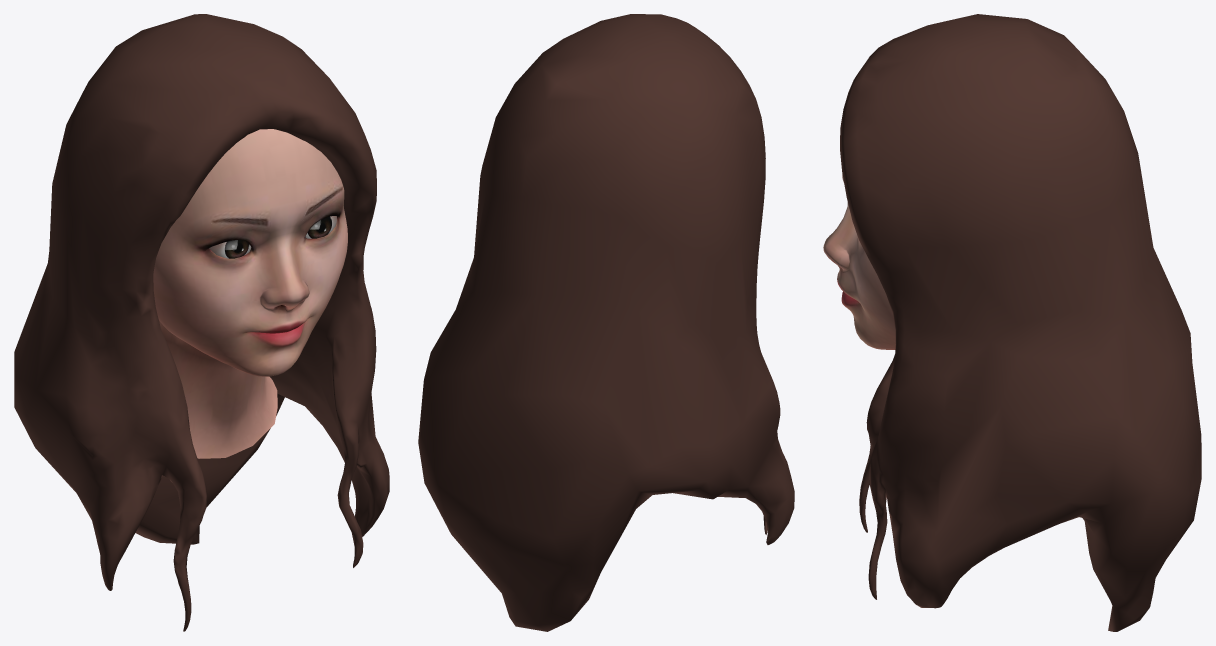
Rendered from woman-head.fbx.
3 renders of one model, left to right at view 1: azimuth 30°, elevation 25°; view 2: azimuth 150°, elevation 25°; view 3: azimuth 270°, elevation 25°, orthographic. The views are drawn at different scales.
Visible parts, largest first — view 1: Wolf3D_Hair, Wolf3D_Head, EyeRight; view 2: Wolf3D_Hair; view 3: Wolf3D_Hair, Wolf3D_Head.
Boxes of the visible parts, bbox=[...] form: Wolf3D_Hair: bbox=[14, 14, 389, 631]; Wolf3D_Head: bbox=[153, 129, 347, 458]; EyeRight: bbox=[209, 239, 251, 258]; Wolf3D_Hair: bbox=[418, 14, 794, 631]; Wolf3D_Hair: bbox=[840, 14, 1201, 631]; Wolf3D_Head: bbox=[823, 174, 895, 349].
Size of the model in its own units: 24.09 by 43.88 by 25.93.
3 materials, 3 textured.
